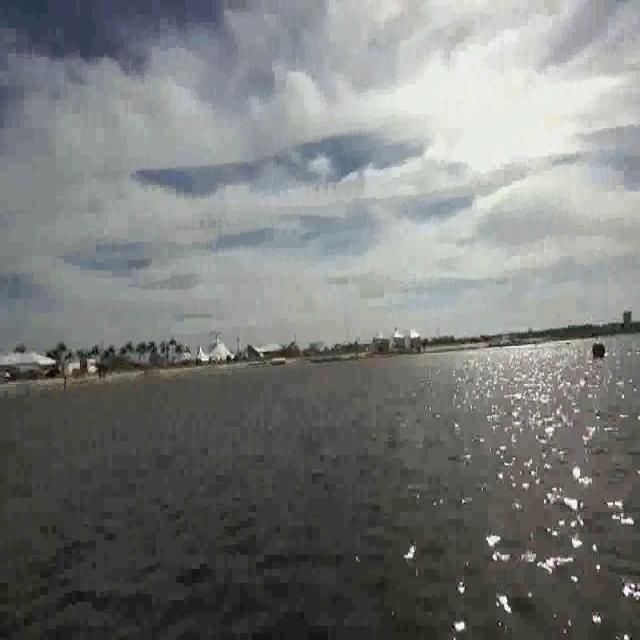black-buoy: (592, 339, 606, 365)
